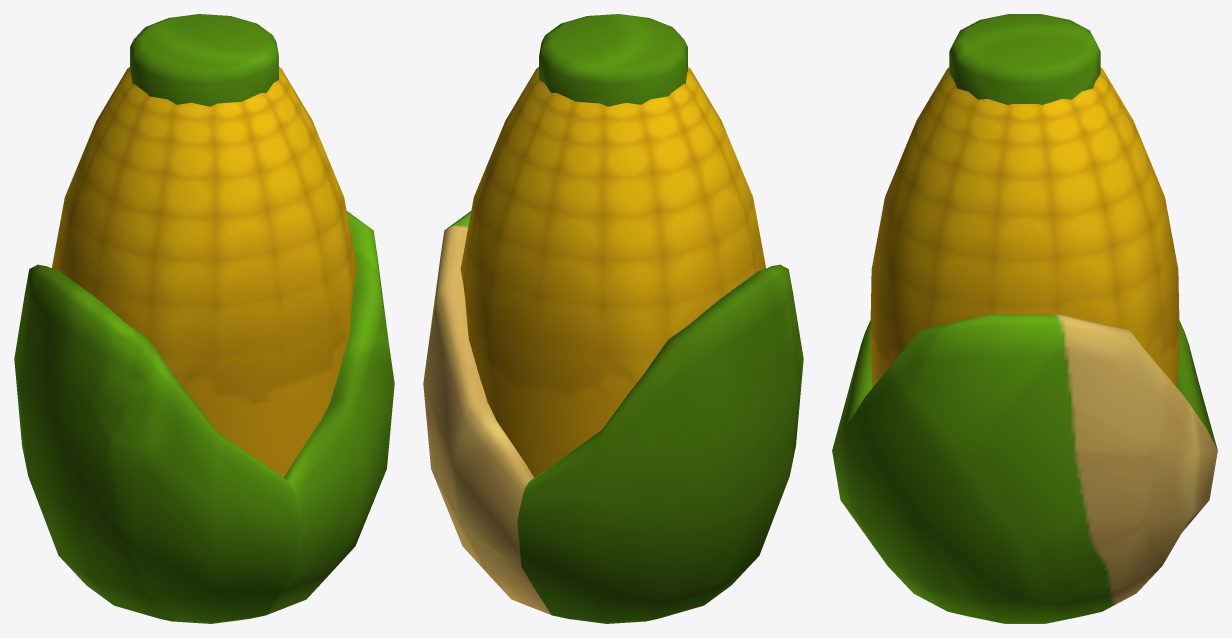
Rendered from corn_yellow.fbx.
3 renders of one model, left to right at view 1: azimuth 30°, elevation 25°; view 2: azimuth 150°, elevation 25°; view 3: azimuth 270°, elevation 25°, orthographic.
Parts seen in each view (by area): view 1: corn_yellow; view 2: corn_yellow; view 3: corn_yellow.
Boxes of the visible parts, x1,y1,x2,y2 form: corn_yellow: (14, 14, 394, 623); corn_yellow: (423, 14, 803, 623); corn_yellow: (832, 14, 1217, 623).
Bounding box in the file's own units: 0.6705 × 1.1 × 0.6878.
